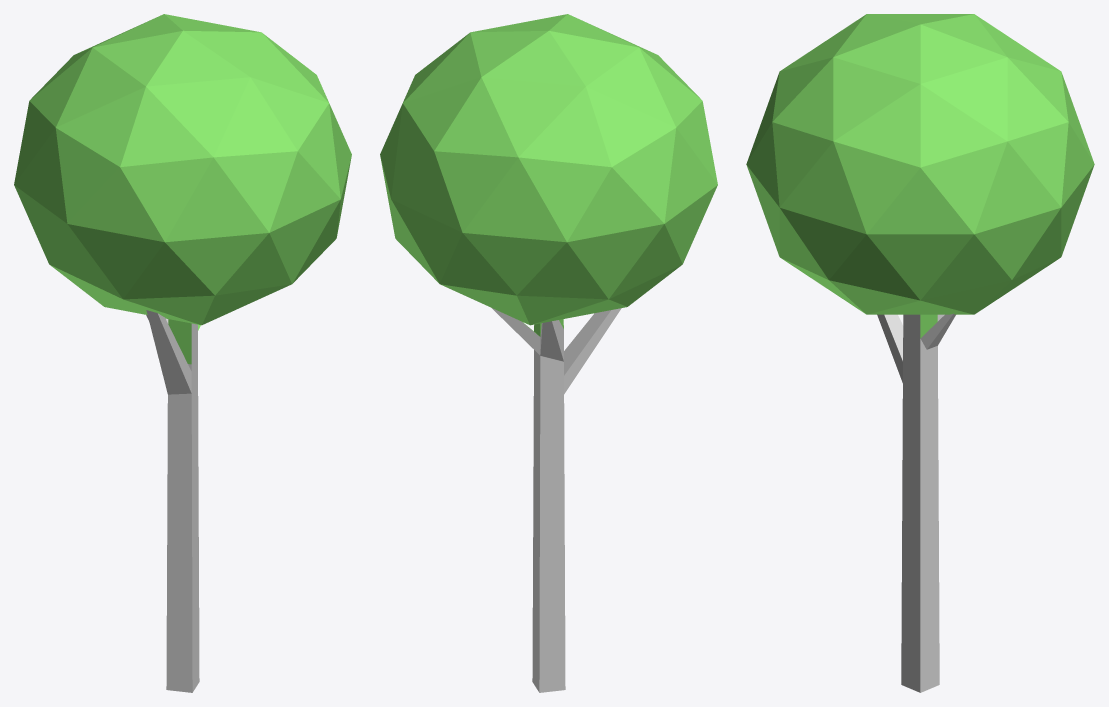
The model's file is Tree1.fbx.
3 views of the same model, side by side, from view 1: azimuth 30°, elevation 25°; view 2: azimuth 150°, elevation 25°; view 3: azimuth 270°, elevation 25° (orthographic).
Visible parts, largest first — view 1: tree 2; view 2: tree 2; view 3: tree 2.
Part boxes in pixels (left/top/right/bottom): tree 2: left=14, top=14, right=351, bottom=692; tree 2: left=380, top=14, right=717, bottom=692; tree 2: left=746, top=14, right=1094, bottom=692.
Size of the model in its own units: 300 by 659 by 315.
